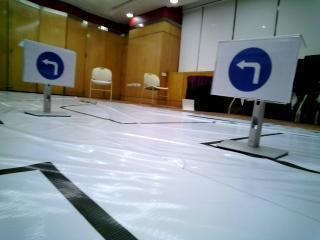left: (219, 43, 288, 95), (26, 43, 72, 83)
